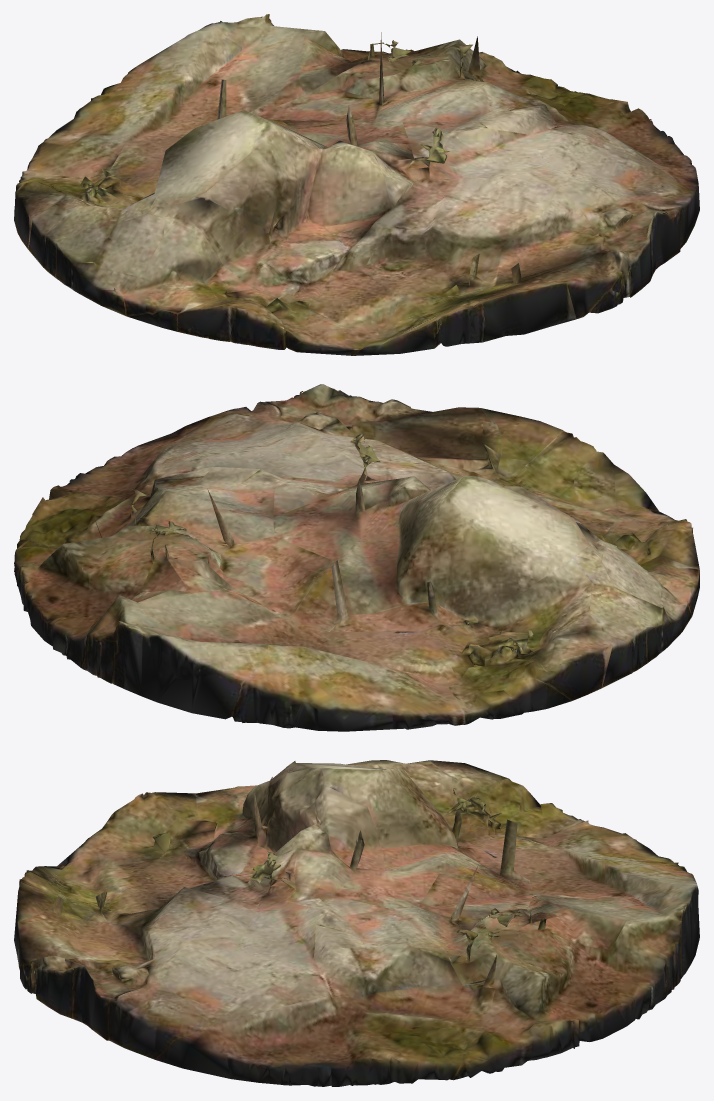
File: rock.glb
3 renders of one model, top to bottom at view 1: azimuth 30°, elevation 25°; view 2: azimuth 150°, elevation 25°; view 3: azimuth 270°, elevation 25°, orthographic. The views are drawn at different scales.
Parts seen in each view (by area): view 1: Object_2; view 2: Object_2; view 3: Object_2.
Boxes of the visible parts, bbox=[...] form: Object_2: bbox=[14, 14, 699, 355]; Object_2: bbox=[14, 384, 699, 731]; Object_2: bbox=[14, 760, 699, 1086].
Bounding box in the file's own units: 18.09 × 3.59 × 17.96.
Materials: 1 (1 with a texture image).
